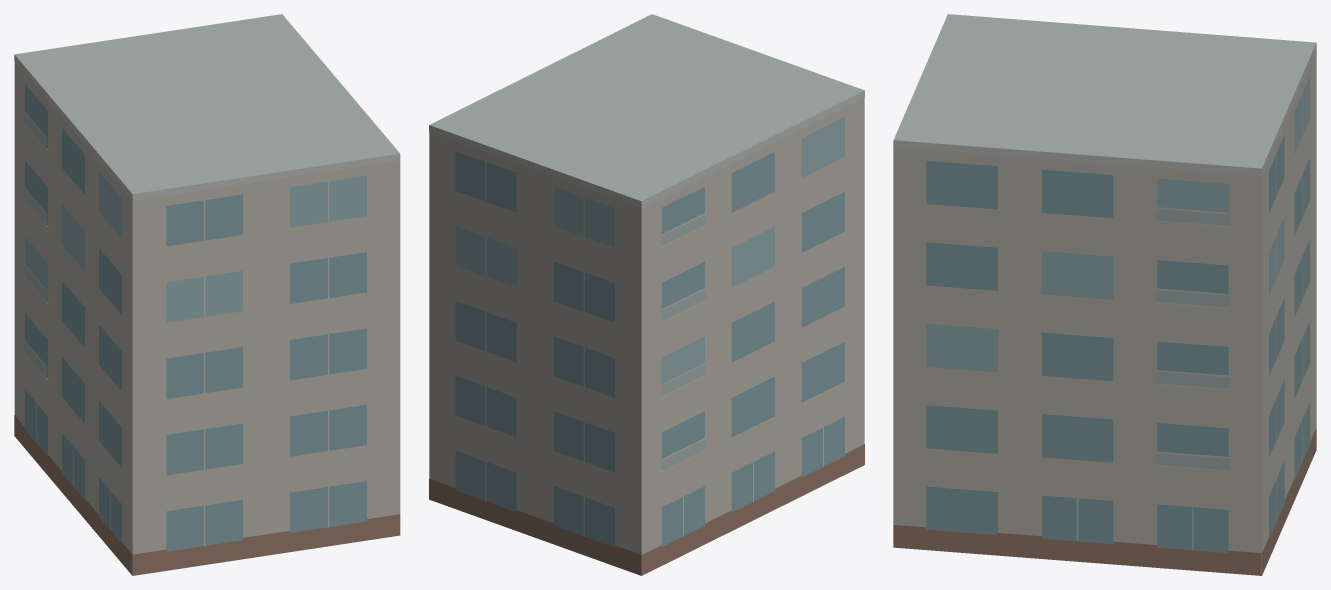
File: survey-upis-32701762.glb
3 renders of one model, left to right at view 1: azimuth 30°, elevation 25°; view 2: azimuth 150°, elevation 25°; view 3: azimuth 270°, elevation 25°, orthographic. The views are drawn at different scales.
Parts seen in each view (by area): view 1: survey-upis-32701762.tmp; view 2: survey-upis-32701762.tmp; view 3: survey-upis-32701762.tmp.
Boxes of the visible parts, <box> form: survey-upis-32701762.tmp: <box>14,14,400,575</box>; survey-upis-32701762.tmp: <box>429,14,864,575</box>; survey-upis-32701762.tmp: <box>893,14,1316,575</box>.
Size of the model in its own units: 11.4 by 14 by 13.19.
